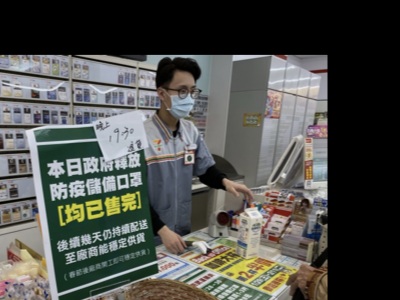with_mask: (164, 82, 198, 118)
